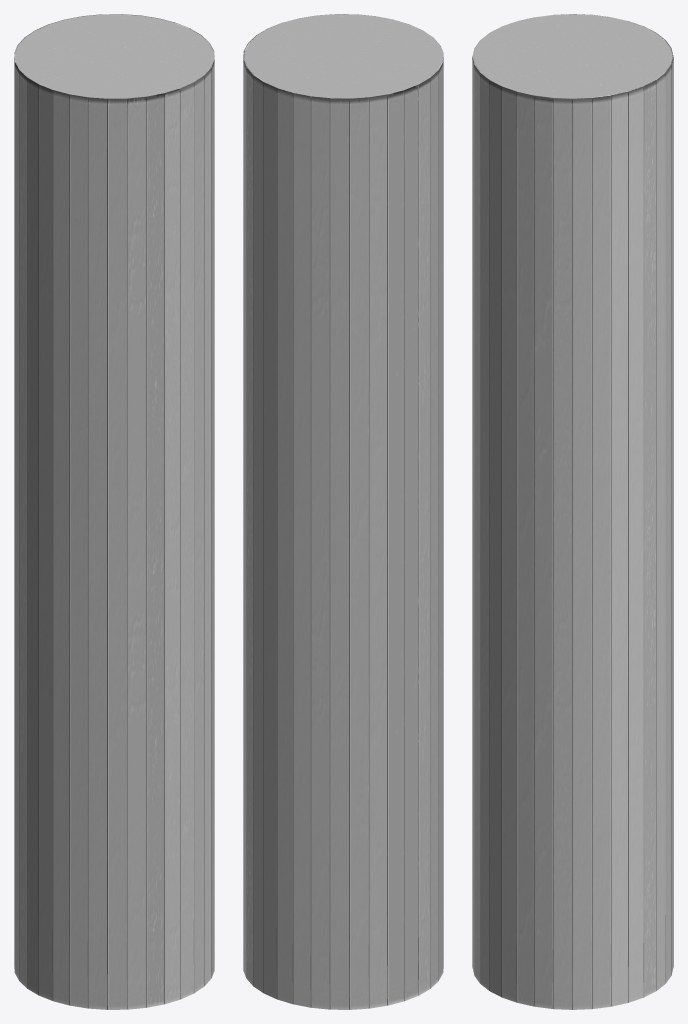
File: fightingRingPost2.obj
3 views of the same model, side by side, from view 1: azimuth 30°, elevation 25°; view 2: azimuth 150°, elevation 25°; view 3: azimuth 270°, elevation 25° (orthographic).
Visible parts, largest first — view 1: RingPole.2_Cylinder.003; view 2: RingPole.2_Cylinder.003; view 3: RingPole.2_Cylinder.003.
Part boxes in pixels (x1,y1,x2,y2): RingPole.2_Cylinder.003: (14, 14, 214, 1009); RingPole.2_Cylinder.003: (243, 14, 443, 1009); RingPole.2_Cylinder.003: (472, 14, 673, 1009).
Size of the model in its own units: 1 by 5 by 1.
